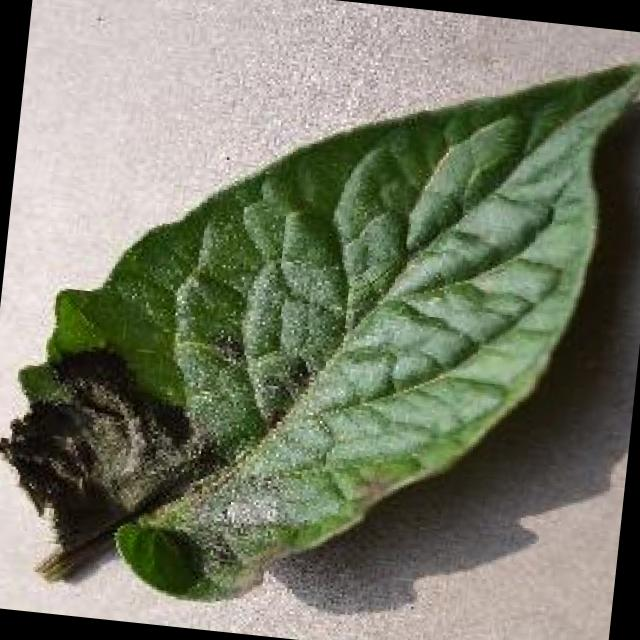Tomato_Late_Blight: (0, 318, 243, 548)
